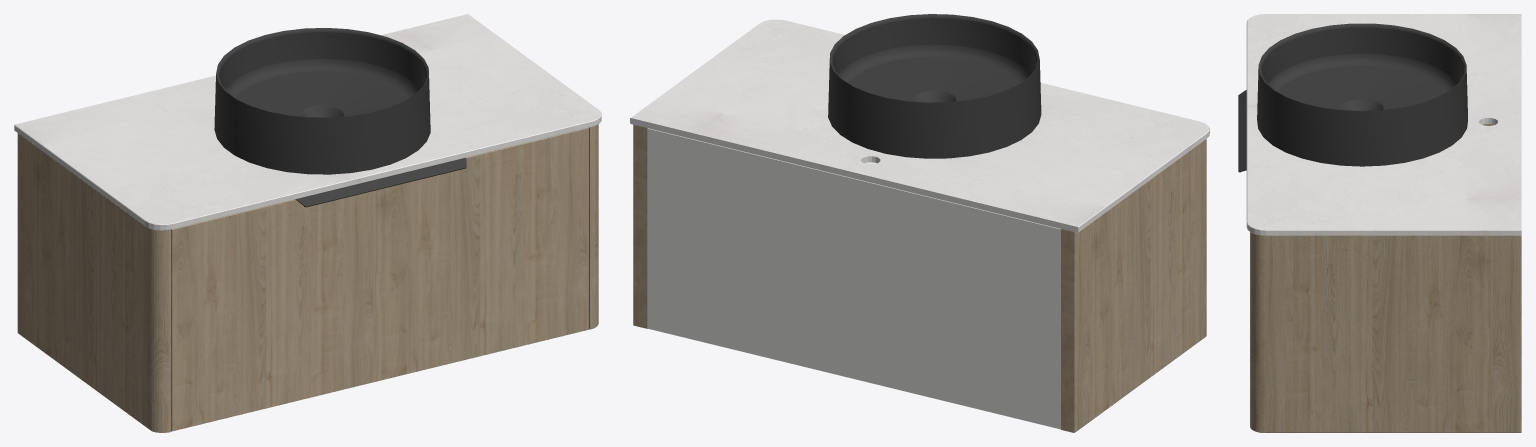
File: 8840BT3-F3-NAP.glb
3 views of the same model, side by side, from view 1: azimuth 30°, elevation 25°; view 2: azimuth 150°, elevation 25°; view 3: azimuth 270°, elevation 25° (orthographic). The views are drawn at different scales.
Visible parts, largest first — view 1: Drawer_0, BT, Sides, BAS; view 2: Carcass, BT, Sides, BAS; view 3: Sides, BT, BAS, Drawer_0.
Part boxes in pixels (x1,y1,x2,y2): Drawer_0: (171,128,588,431); BT: (14,14,601,230); Sides: (17,124,598,432); BAS: (214,28,430,174); Carcass: (647,128,1060,429); BT: (630,19,1209,232); Sides: (633,124,1206,432); BAS: (828,14,1041,158); Sides: (1250,124,1521,432); BT: (1246,14,1521,235); BAS: (1257,23,1467,166); Drawer_0: (1238,90,1246,172).
Bounding box in the file's own units: 0.934 × 0.522 × 0.5165.
8 materials, 5 textured.
